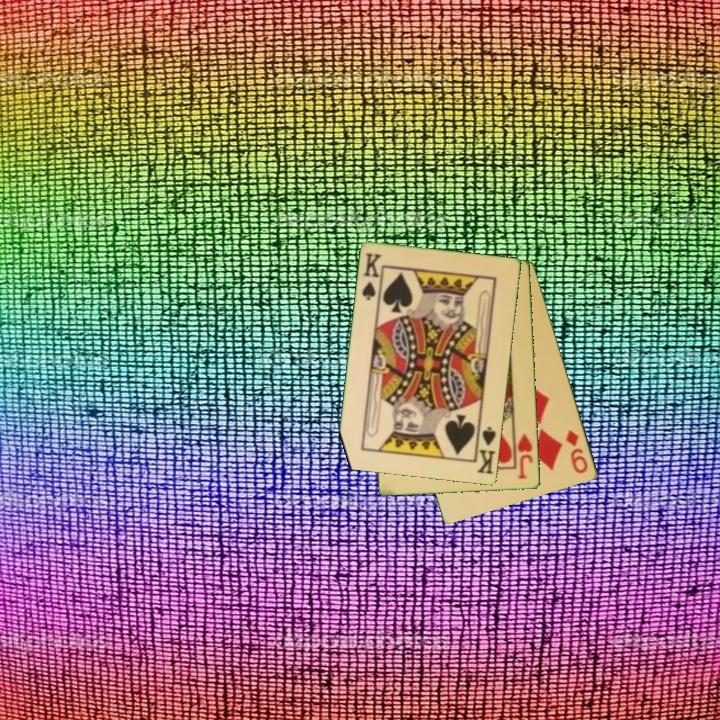9d: (562, 426, 591, 477)
Jh: (511, 427, 536, 482)
Ks: (472, 421, 499, 477), (359, 250, 384, 304)
